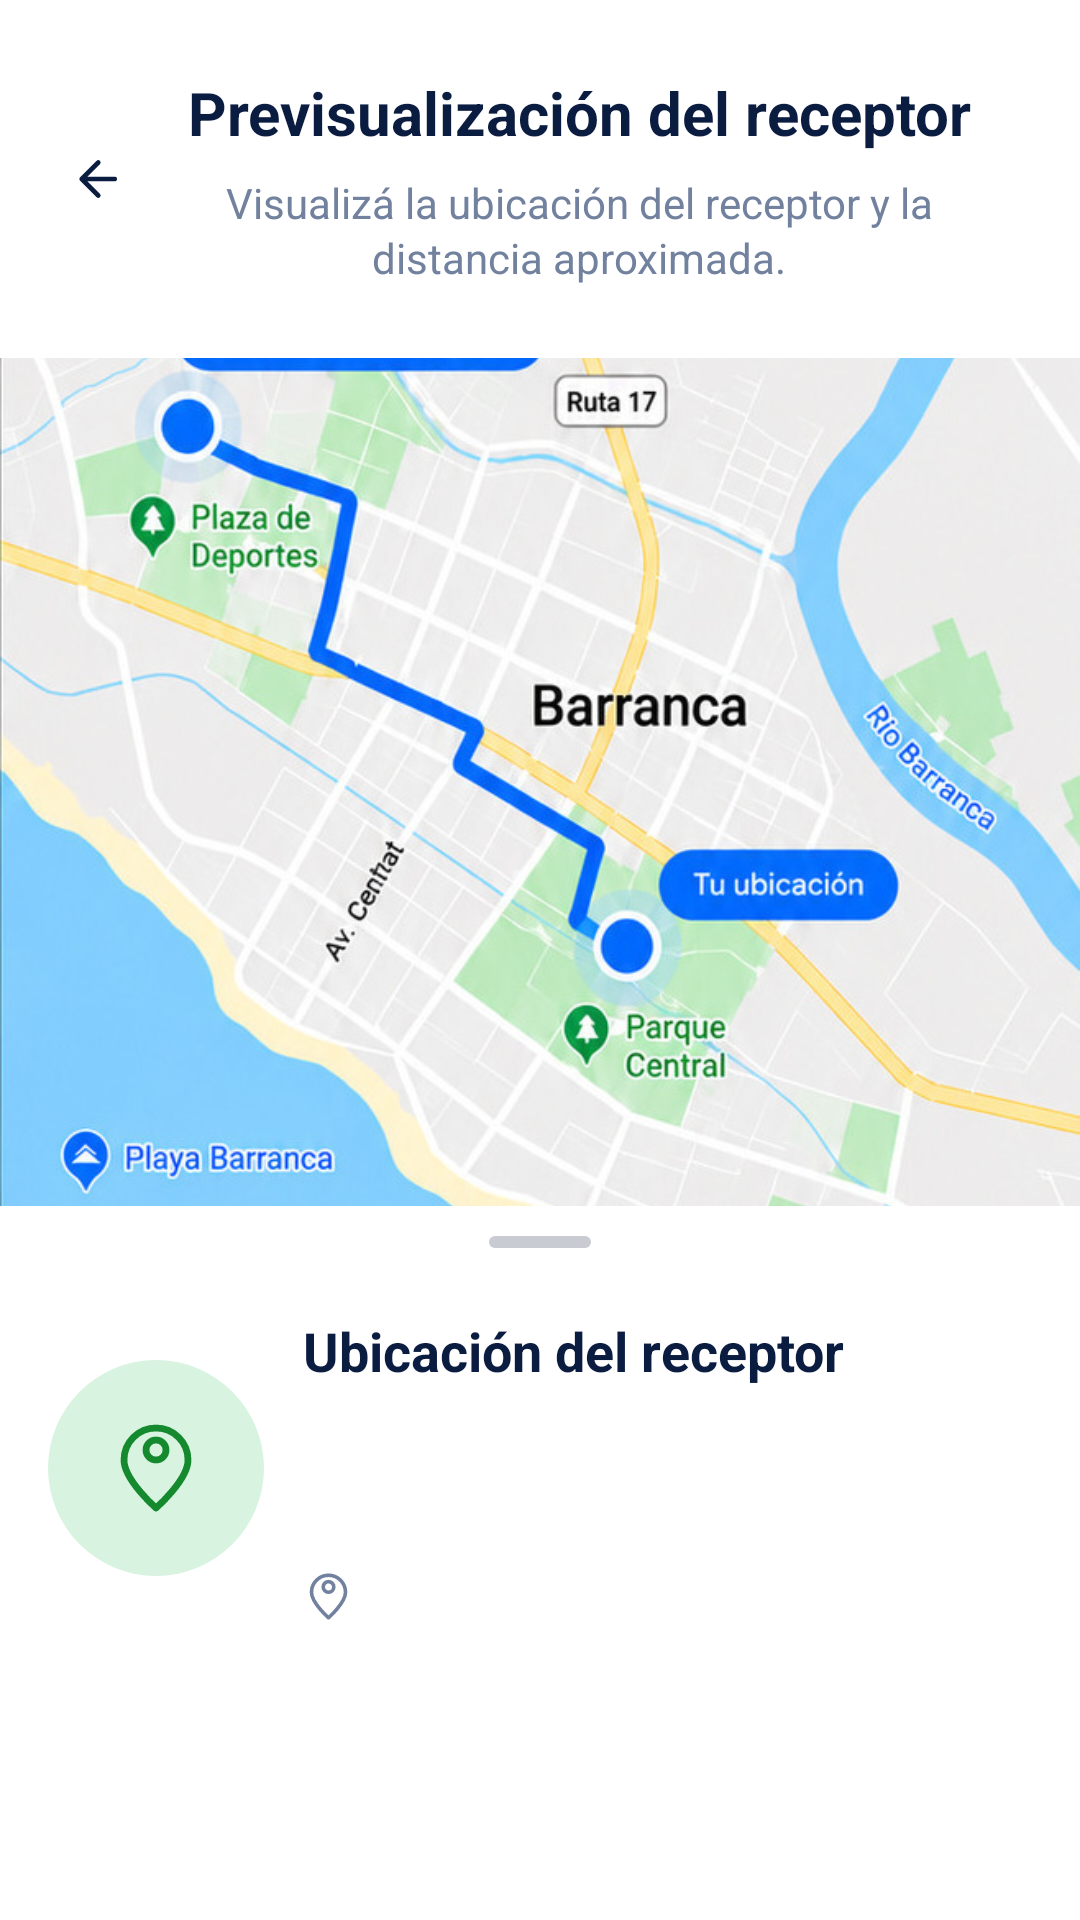

Point at icon controls on the screen. Image size 1080 × 1920, points as [x,y].
rota pin: [156,1468], [328,1596]
Volver: [98,179]
